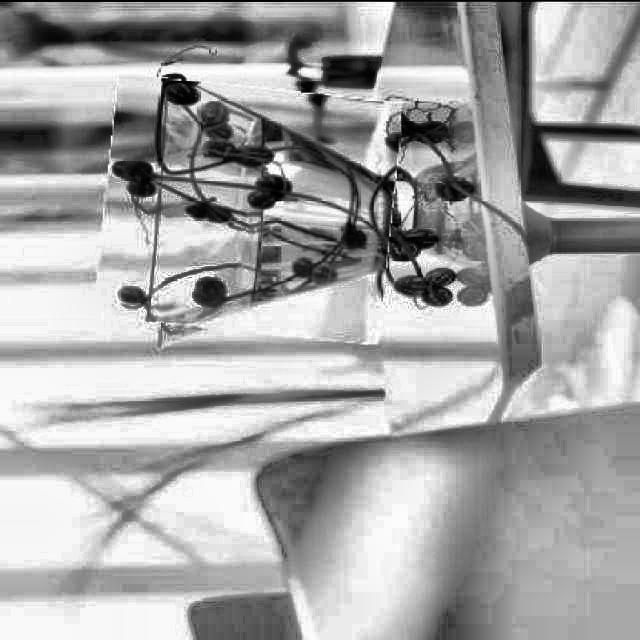plants: (100, 79, 398, 336)
